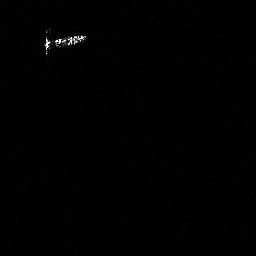ship: (42, 28, 88, 58)
